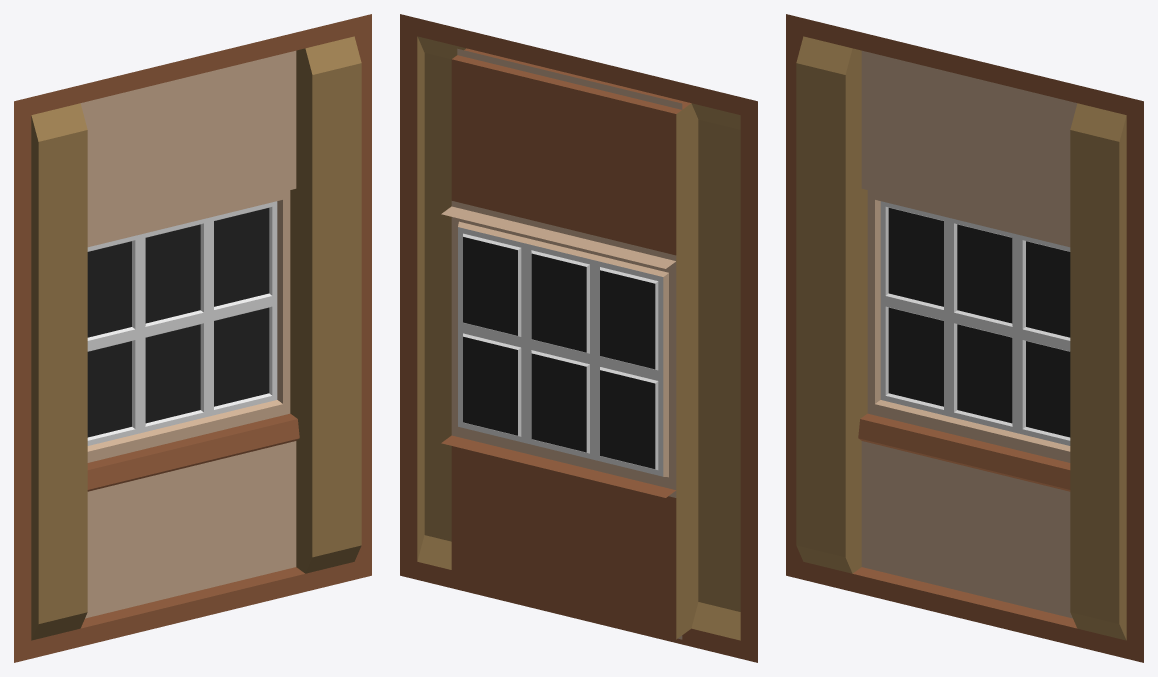
The model's file is 2x3WindowB.fbx.
The picture shows the model from 3 angles, left to right: view 1: azimuth 30°, elevation 25°; view 2: azimuth 150°, elevation 25°; view 3: azimuth 330°, elevation 25°; orthographic projection.
Parts seen in each view (by area): view 1: 2x3WindowB; view 2: 2x3WindowB; view 3: 2x3WindowB.
Boxes of the visible parts, bbox=[...] form: 2x3WindowB: bbox=[14, 14, 371, 662]; 2x3WindowB: bbox=[400, 14, 757, 662]; 2x3WindowB: bbox=[786, 14, 1143, 662].
Bounding box in the file's own units: 200 × 300 × 31.63.
